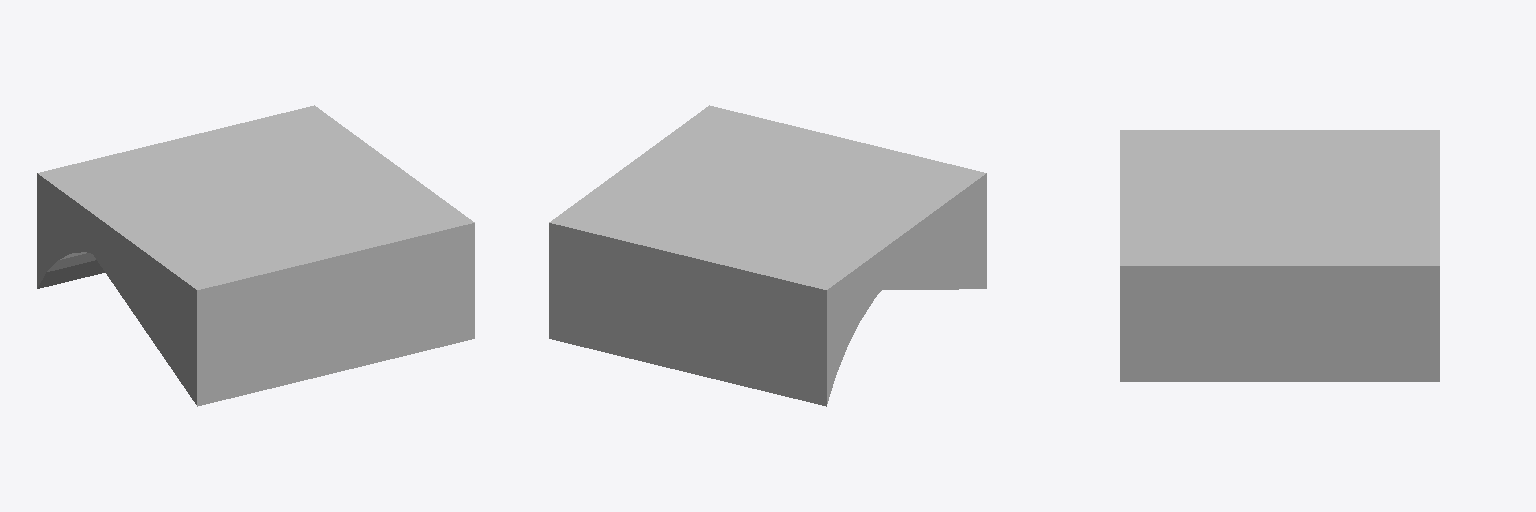
Rendered from arch.obj.
3 renders of one model, left to right at view 1: azimuth 30°, elevation 25°; view 2: azimuth 150°, elevation 25°; view 3: azimuth 270°, elevation 25°, orthographic.
Visible parts, largest first — view 1: Mesh1 Model; view 2: Mesh1 Model; view 3: Mesh1 Model.
Part boxes in pixels (x1,y1,x2,y2): Mesh1 Model: (37, 105, 474, 406); Mesh1 Model: (549, 105, 986, 406); Mesh1 Model: (1120, 130, 1439, 381).
Size of the model in its own units: 2 by 0.8 by 2.